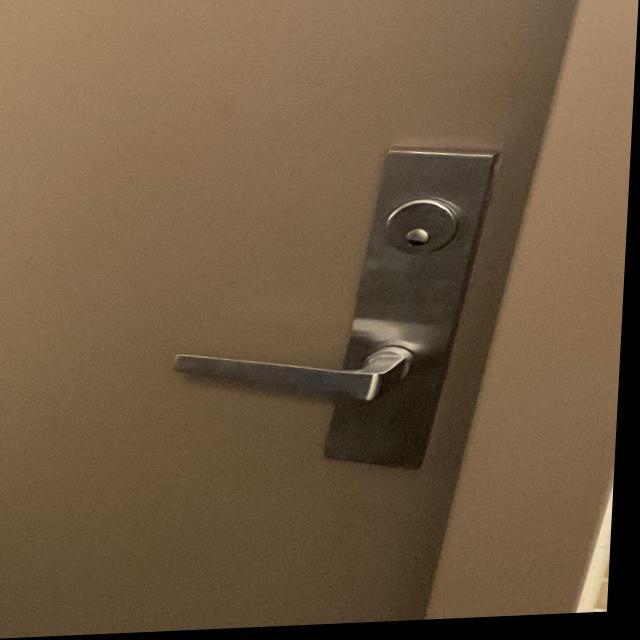door_handle: (154, 325, 444, 431)
